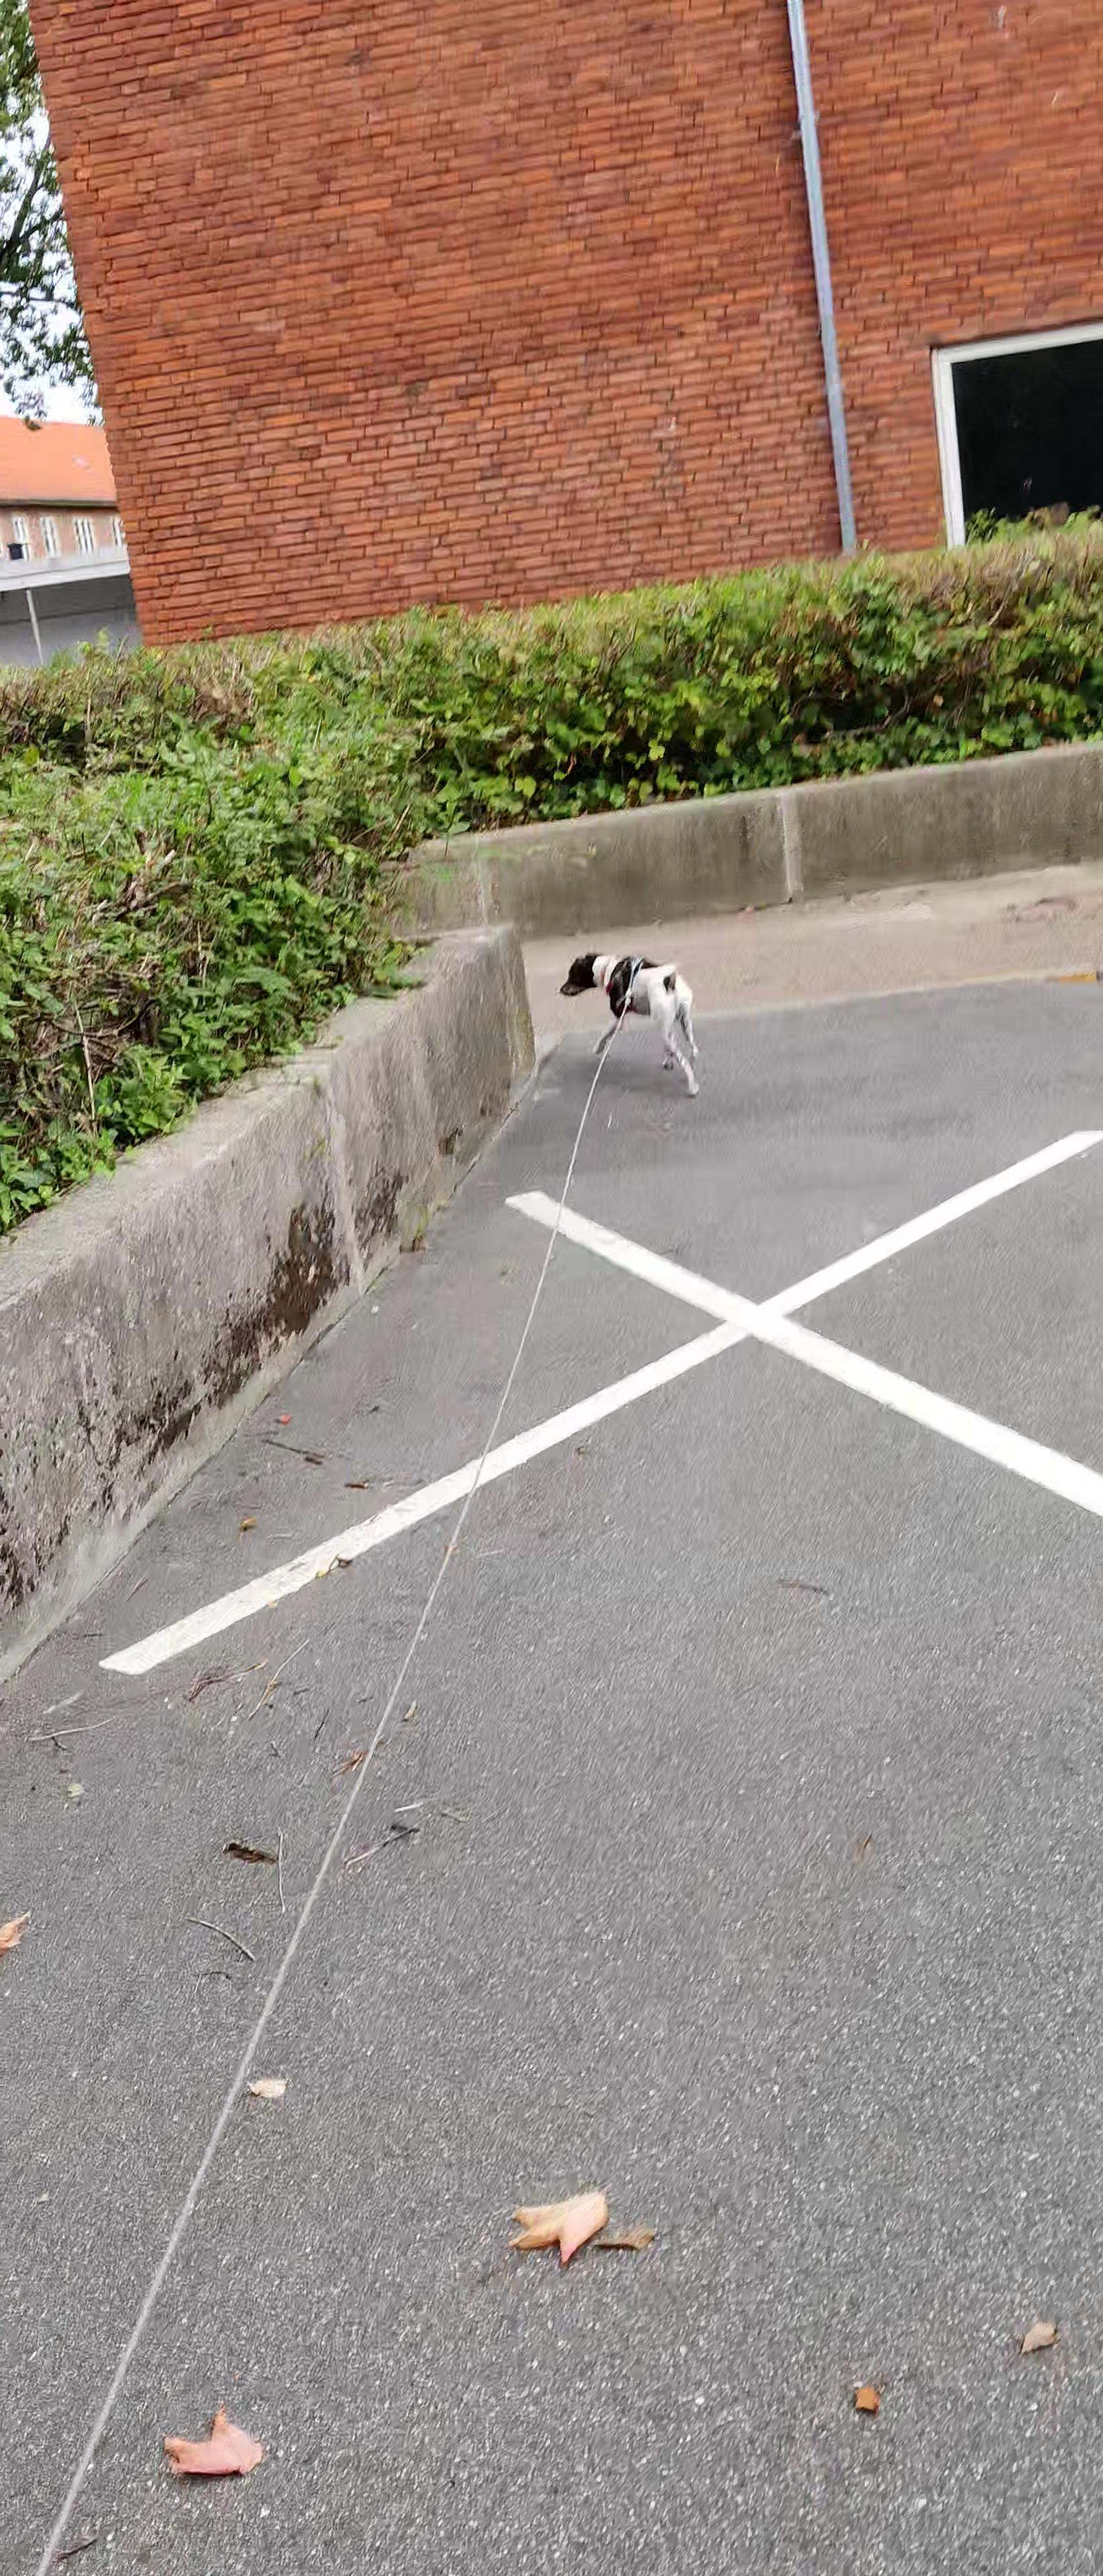Dog: (561, 935, 705, 1101)
